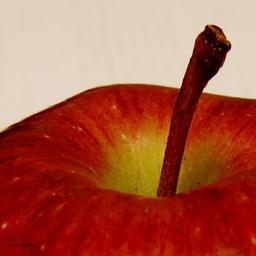apple: (1, 64, 256, 256)
